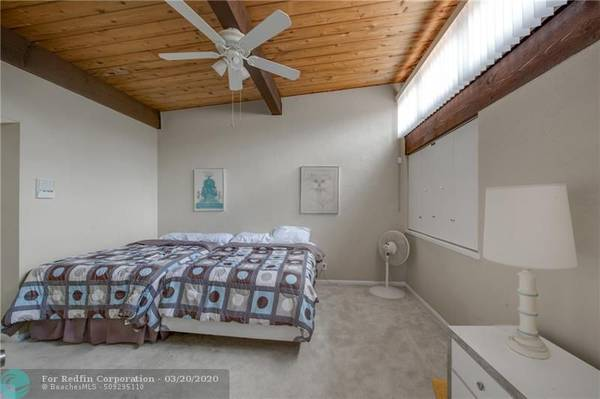bed: (26, 241, 316, 349)
lamp: (477, 184, 580, 361)
